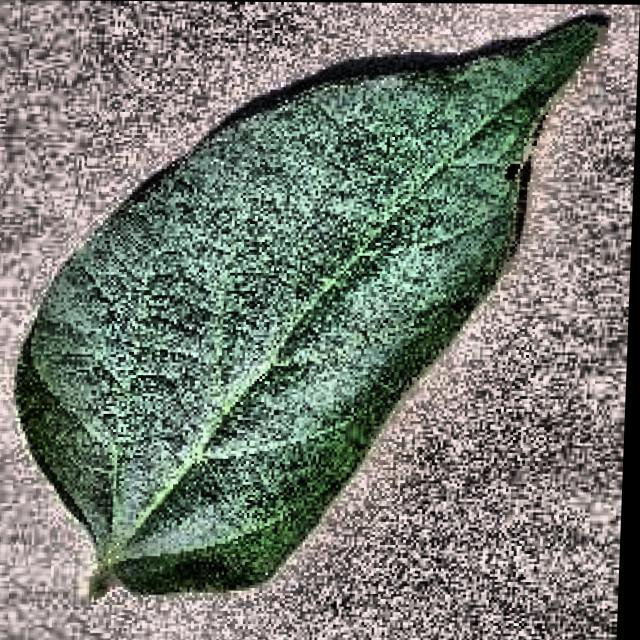healthy: (24, 16, 601, 592)
